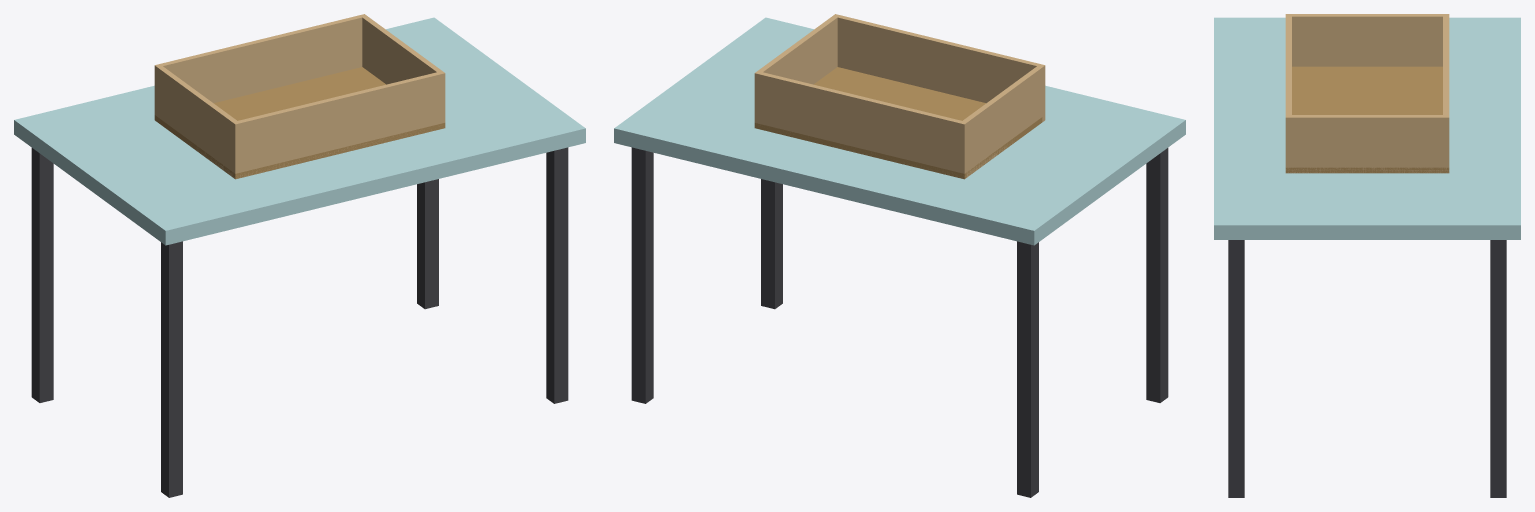
The model's file is idpa.table-box.glb.
3 views of the same model, side by side, from view 1: azimuth 30°, elevation 25°; view 2: azimuth 150°, elevation 25°; view 3: azimuth 270°, elevation 25° (orthographic).
Parts seen in each view (by area): view 1: idpa.table-box; view 2: idpa.table-box; view 3: idpa.table-box.
Part boxes in pixels (bbox=[...]): idpa.table-box: bbox=[14, 14, 585, 497]; idpa.table-box: bbox=[614, 14, 1185, 497]; idpa.table-box: bbox=[1214, 14, 1520, 497].
Bounding box in the file's own units: 1.2 × 0.9 × 0.75.
